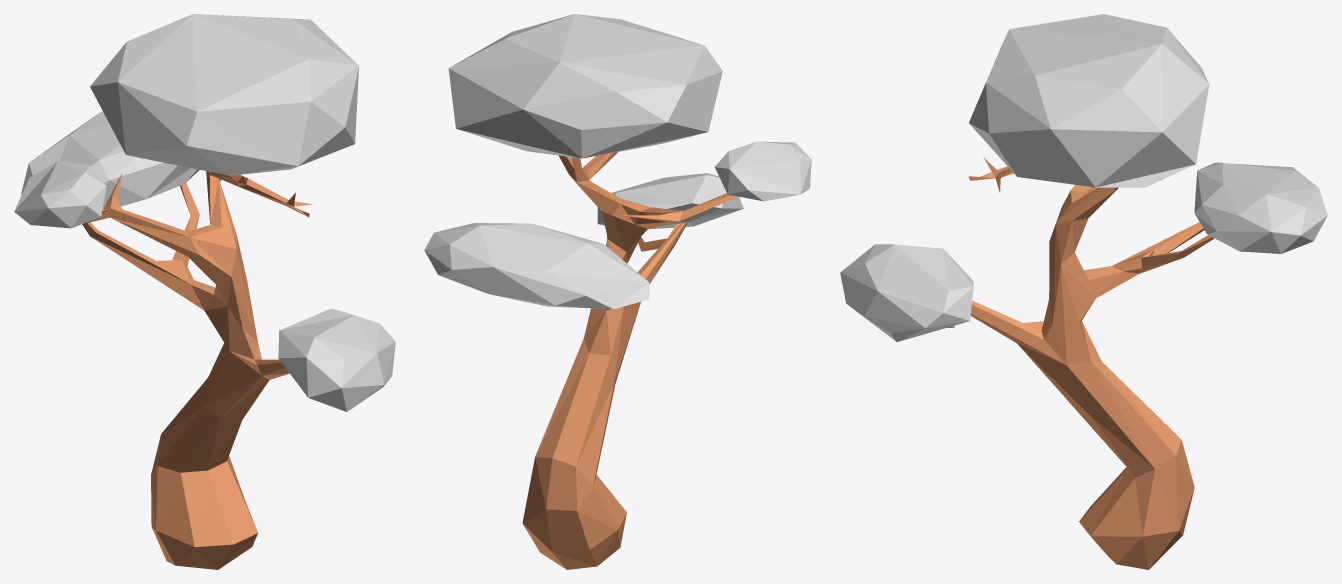
File: Tree6.fbx
The picture shows the model from 3 angles, left to right: view 1: azimuth 30°, elevation 25°; view 2: azimuth 150°, elevation 25°; view 3: azimuth 270°, elevation 25°; orthographic projection. The views are drawn at different scales.
Parts seen in each view (by area): view 1: tree; view 2: tree; view 3: tree.
Part boxes in pixels (<box>): tree: <box>14,14,395,569</box>; tree: <box>424,14,811,569</box>; tree: <box>840,14,1327,569</box>.
Bounding box in the file's own units: 382 × 581 × 492.
